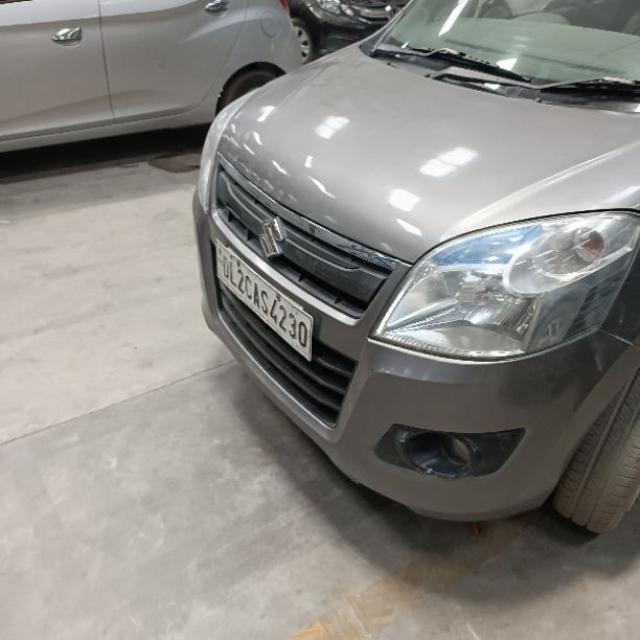license_plate: (211, 236, 314, 362)
